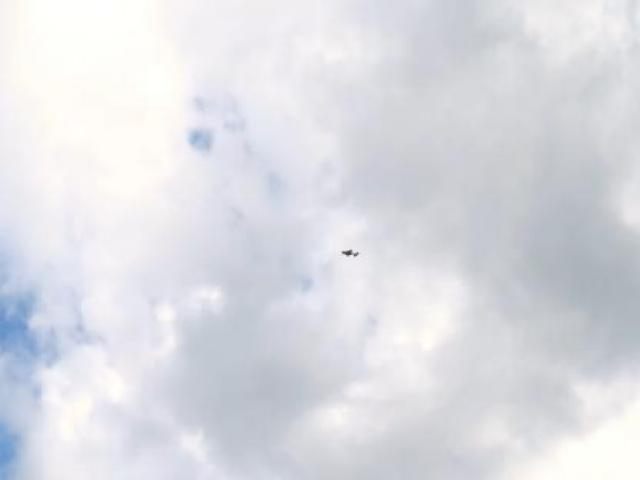uav: (340, 247, 360, 260)
